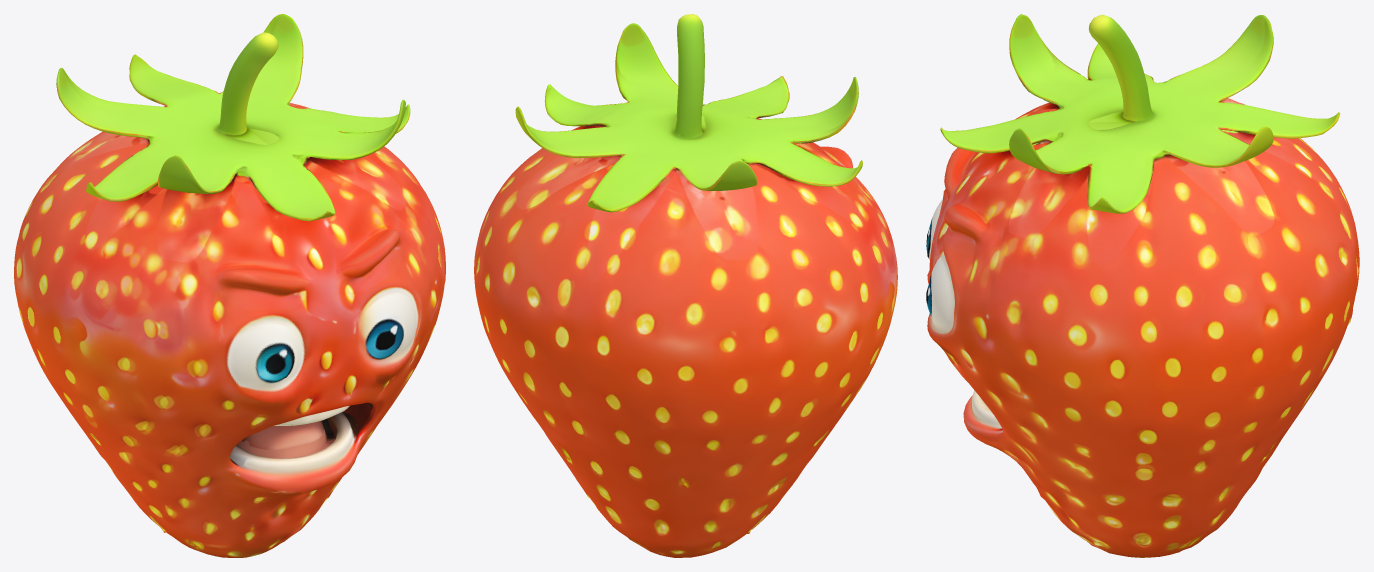
Rendered from strawberry.glb.
3 renders of one model, left to right at view 1: azimuth 30°, elevation 25°; view 2: azimuth 150°, elevation 25°; view 3: azimuth 270°, elevation 25°, orthographic. The views are drawn at different scales.
Parts seen in each view (by area): view 1: model; view 2: model; view 3: model.
Boxes of the visible parts, <box> form: model: <box>14,14,445,557</box>; model: <box>474,14,897,557</box>; model: <box>926,14,1359,557</box>.
Bounding box in the file's own units: 1.43 × 1.91 × 1.38.
1 material, 1 textured.
